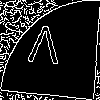V: (25, 24, 62, 74)
